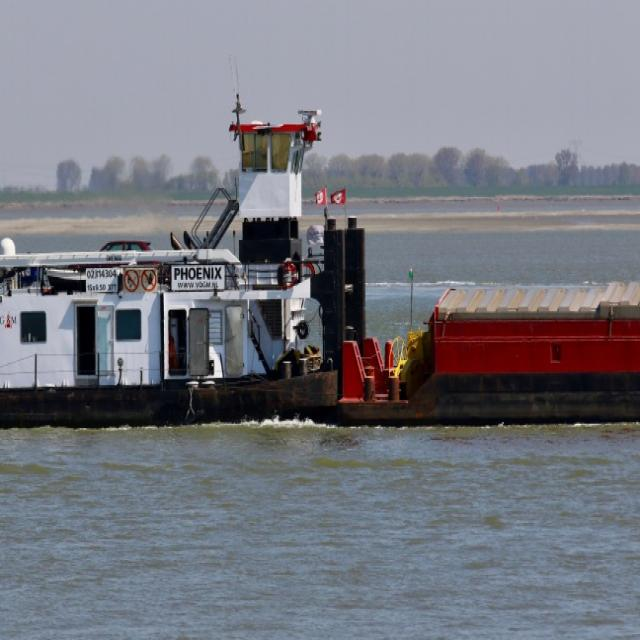tugboat: (1, 87, 375, 433)
